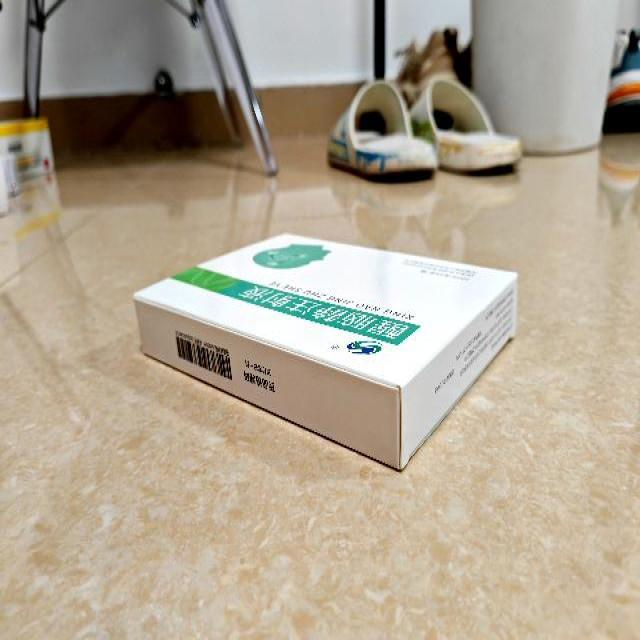box: (135, 232, 519, 469)
